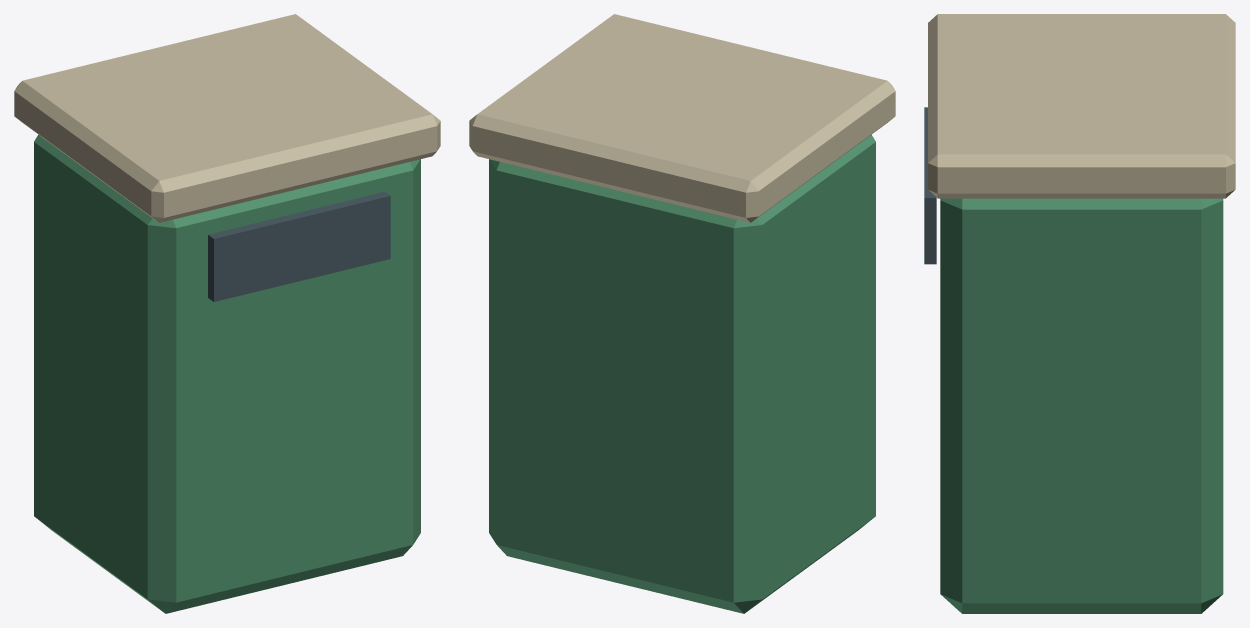
File: litter_bin.glb
The picture shows the model from 3 angles, left to right: view 1: azimuth 30°, elevation 25°; view 2: azimuth 150°, elevation 25°; view 3: azimuth 270°, elevation 25°; orthographic projection. The views are drawn at different scales.
Visible parts, largest first — view 1: litter_bin; view 2: litter_bin; view 3: litter_bin.
Boxes of the visible parts, bbox=[...] form: litter_bin: bbox=[14, 14, 440, 613]; litter_bin: bbox=[469, 14, 895, 613]; litter_bin: bbox=[924, 14, 1235, 613].
Size of the model in its own units: 0.72 by 1.06 by 0.6375.
